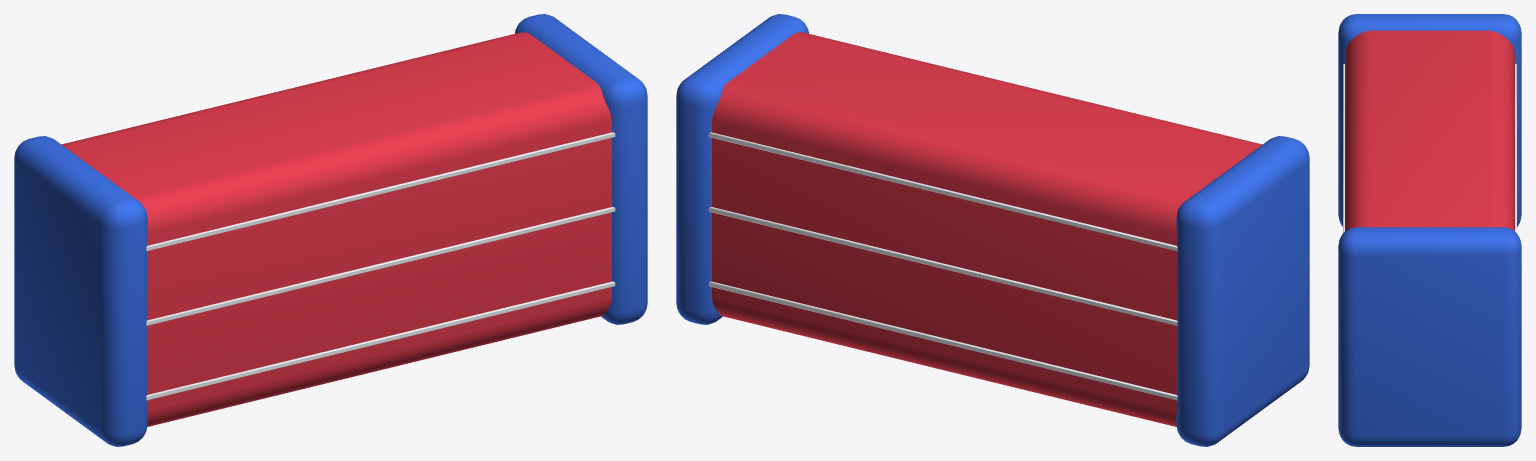
The model's file is SD_PistonWall.fbx.
3 views of the same model, side by side, from view 1: azimuth 30°, elevation 25°; view 2: azimuth 150°, elevation 25°; view 3: azimuth 270°, elevation 25° (orthographic). The views are drawn at different scales.
Visible parts, largest first — view 1: PistonWall; view 2: PistonWall; view 3: PistonWall.
Part boxes in pixels (x1=…): PistonWall: x1=14, y1=14, x2=647, y2=446; PistonWall: x1=676, y1=14, x2=1309, y2=446; PistonWall: x1=1338, y1=14, x2=1521, y2=446.
Size of the model in its own units: 4.2 by 1.8 by 1.4.
